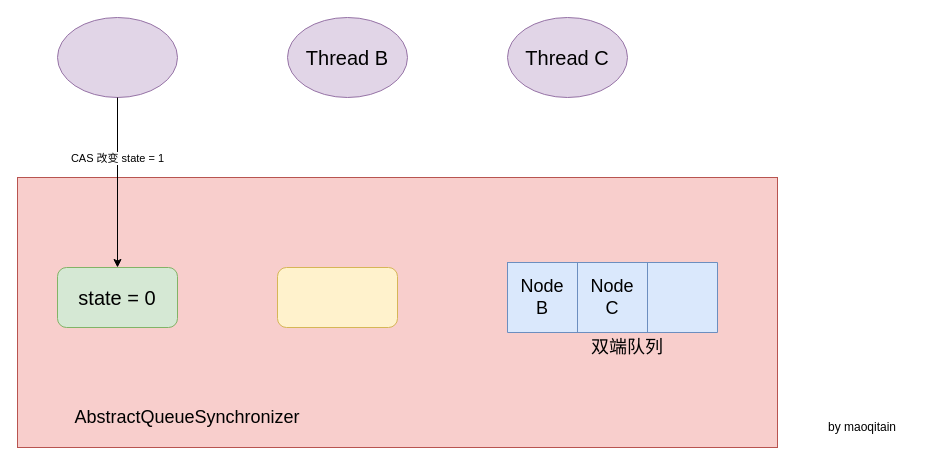
The diagram is 925 pixels wide and 465 high, and some of its shapes have lost their labels. The centre of each missing label's shape, as x and y in pixels:
"OwnerThread Thread A" goes at point 337,297.
"Thread A" goes at point 117,57.
